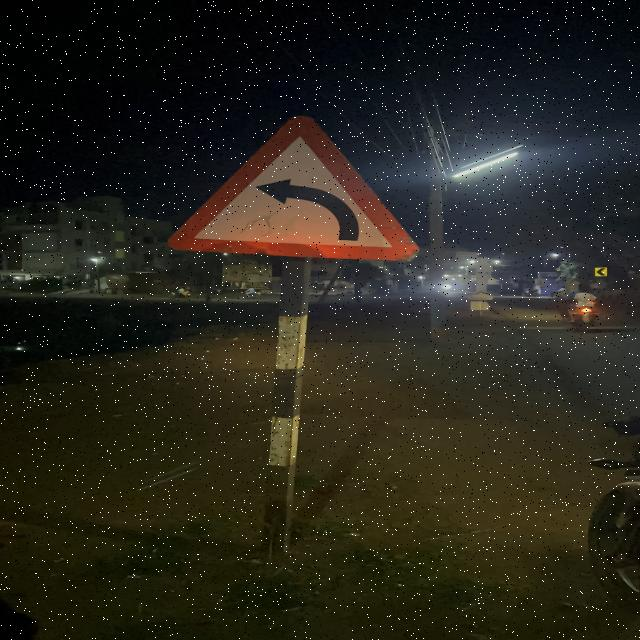left_hand_curve: (172, 120, 432, 250)
